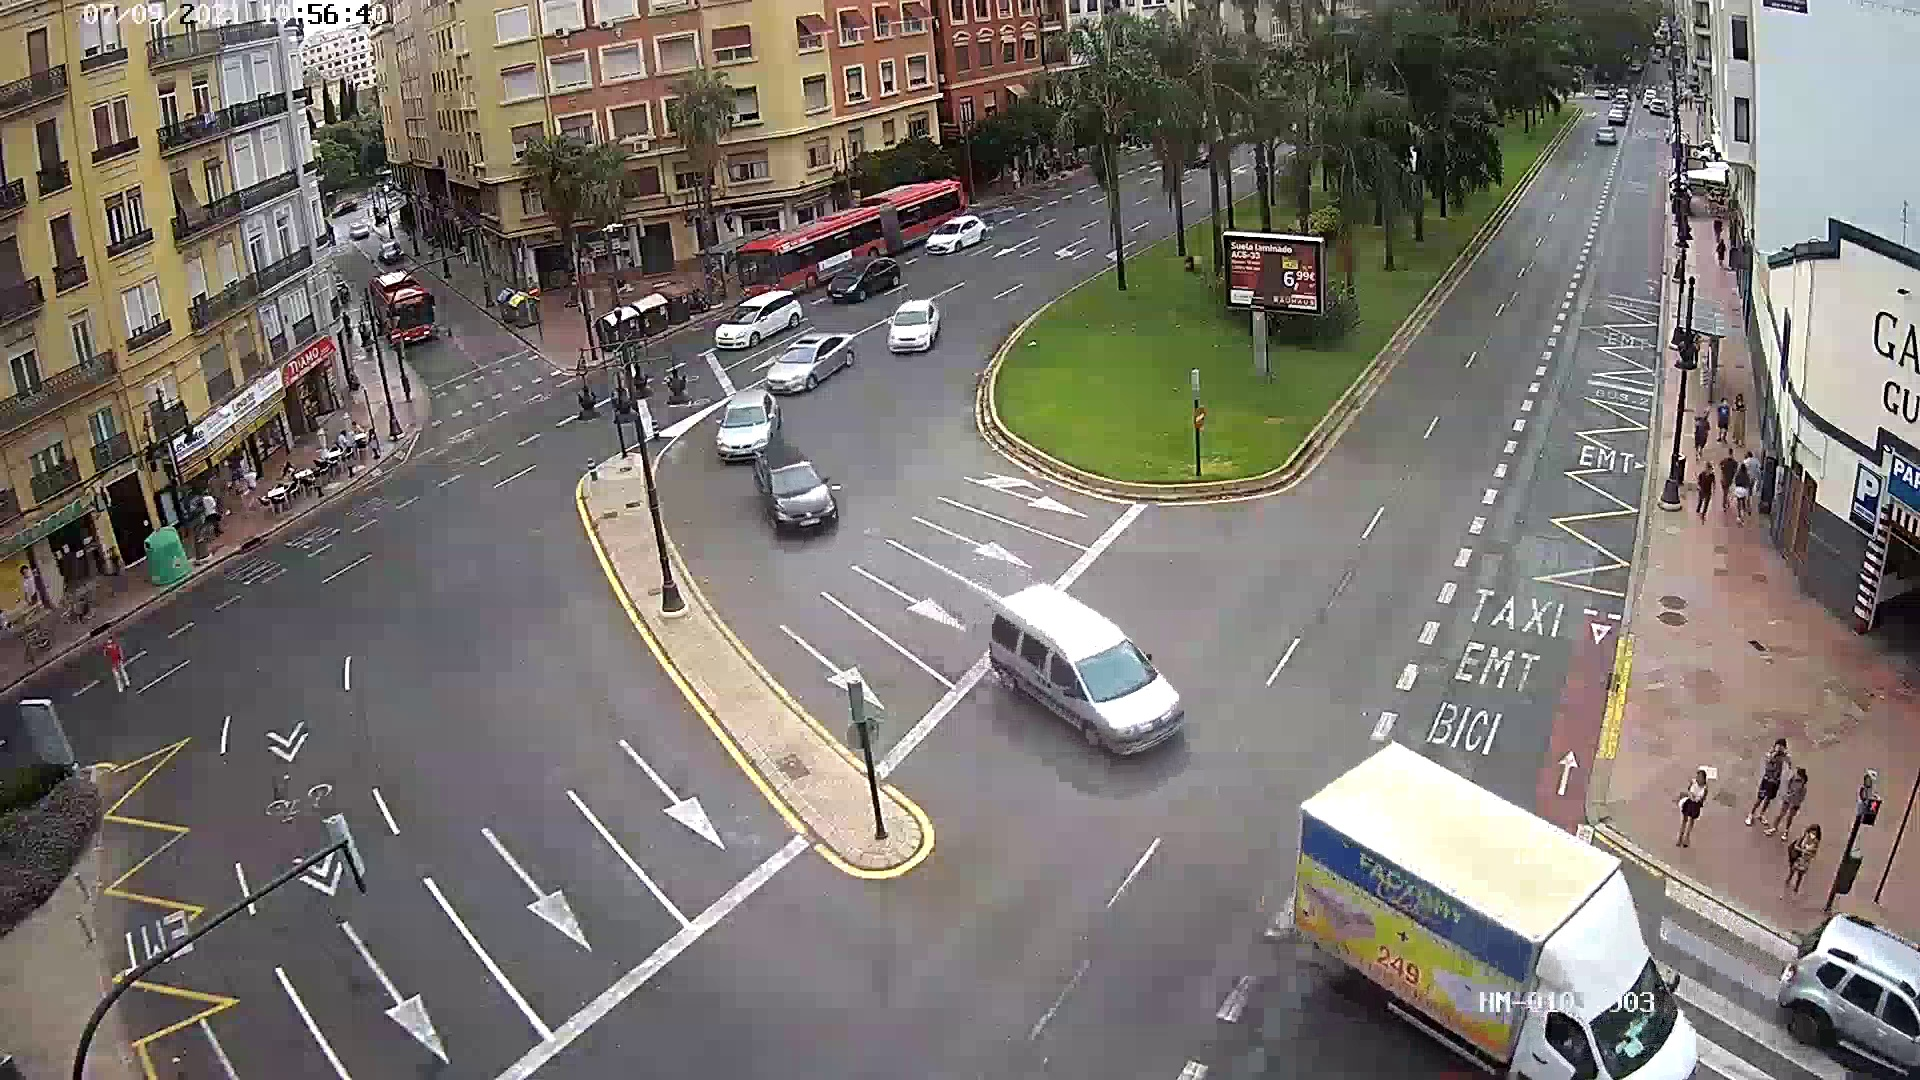Cars: (963, 578, 1193, 758), (728, 436, 837, 533), (760, 336, 847, 400), (717, 386, 783, 465)
